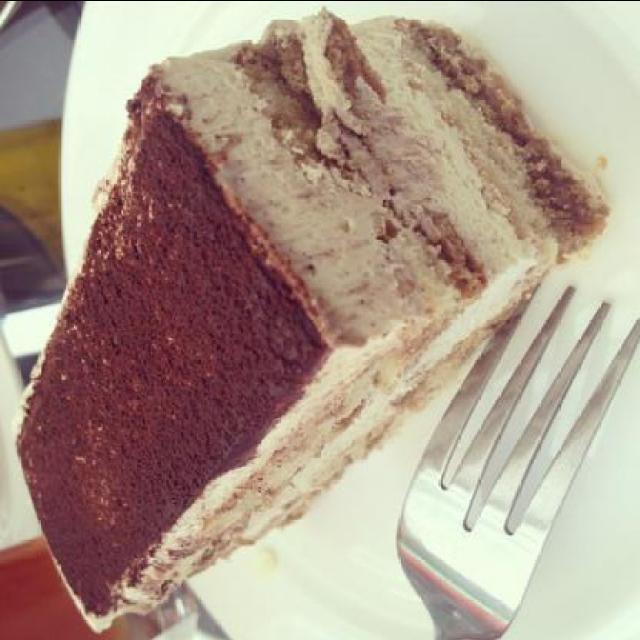Tiramisu: (19, 21, 588, 614)
